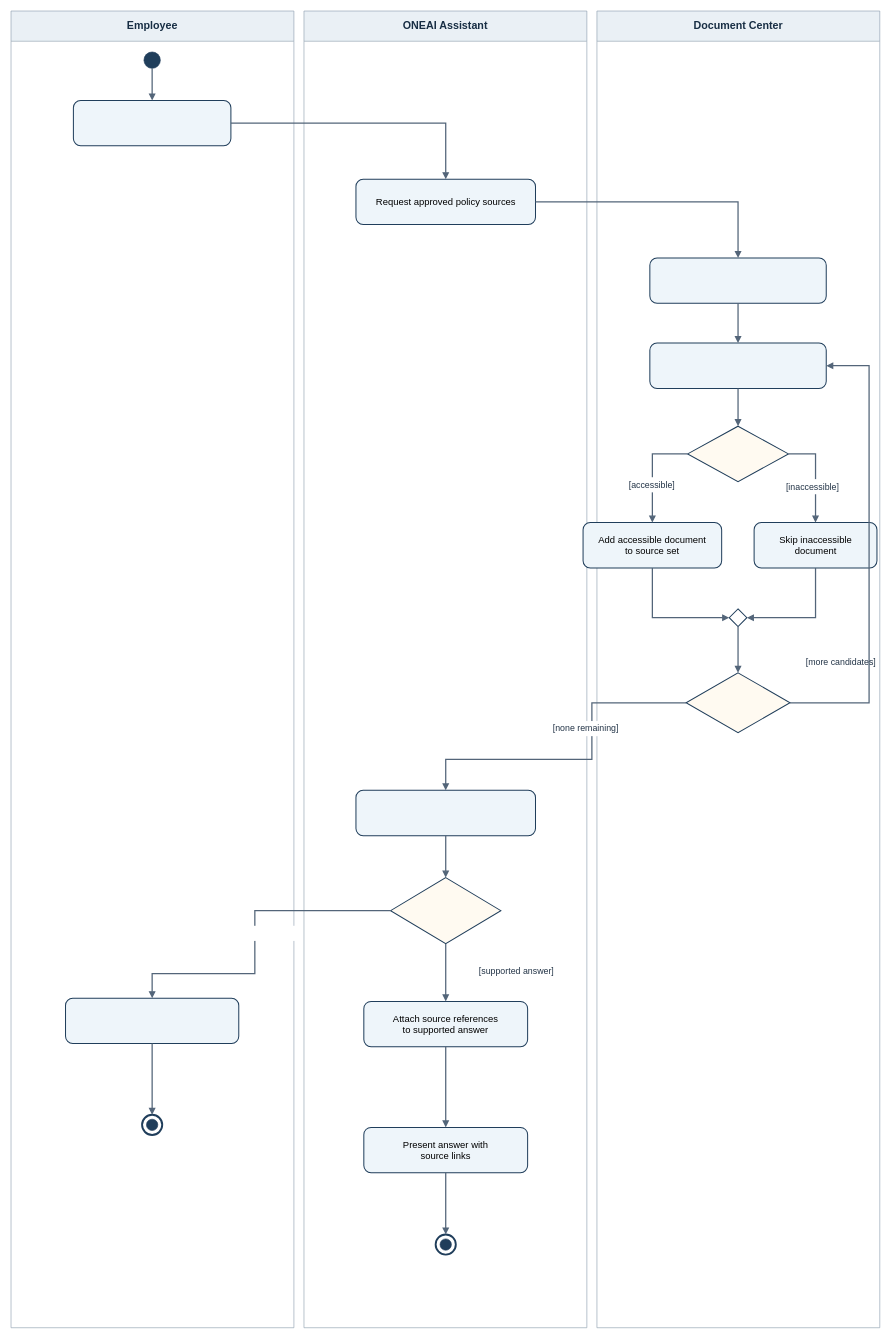
The diagram is 891 pixels wide and 1339 high, and some of its shapes have lost their labels. The centre of each missing label's shape, as x and y in pixels:
[insufficient evidence]: the point at 270,933
Check access for next candidate document: the point at 737,365
Compose response from accessible approved sources: the point at 445,813
Enter a policy question: the point at 152,123
Present no-answer response (insufficient evidence): the point at 152,1020
Retrieve candidate approved documents: the point at 737,280
